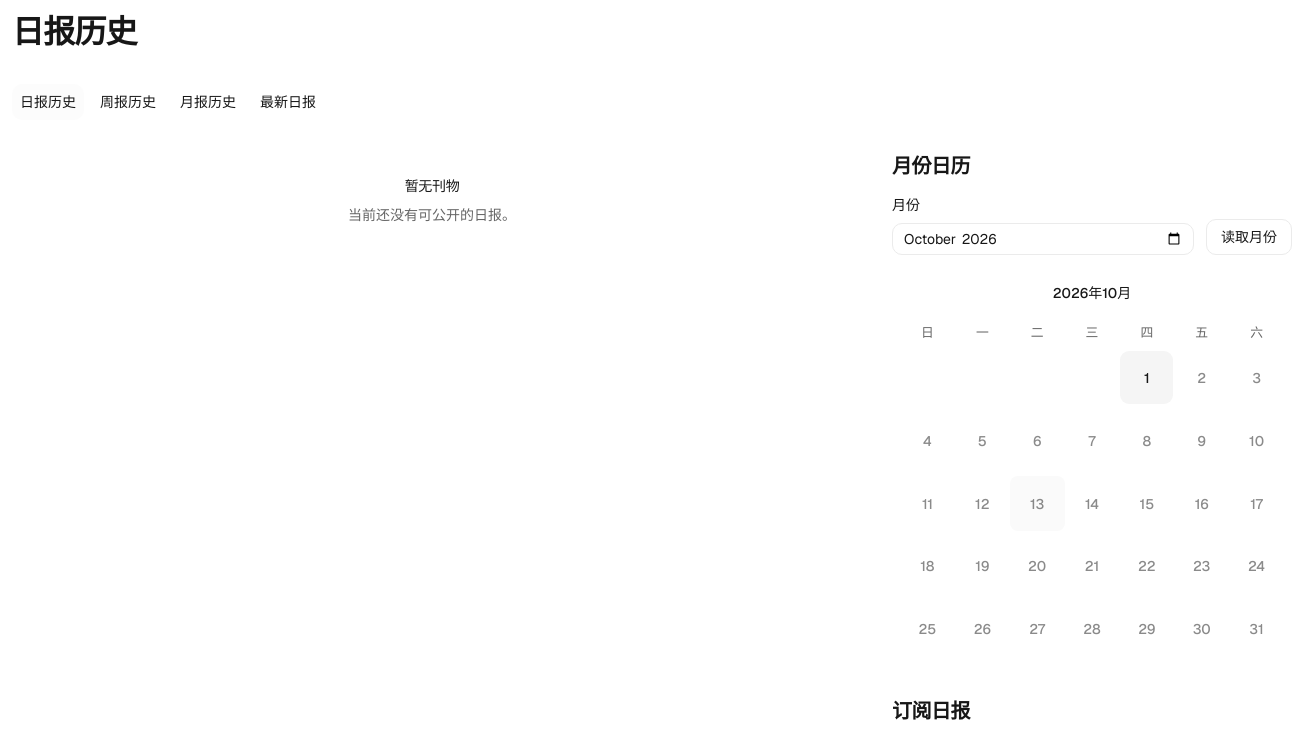
Test case: removes the old calendar when a changed month cannot be read
Replace the text in the field named "日报月份" with "2026-09" at (1043, 239), box [892,223,1194,255]
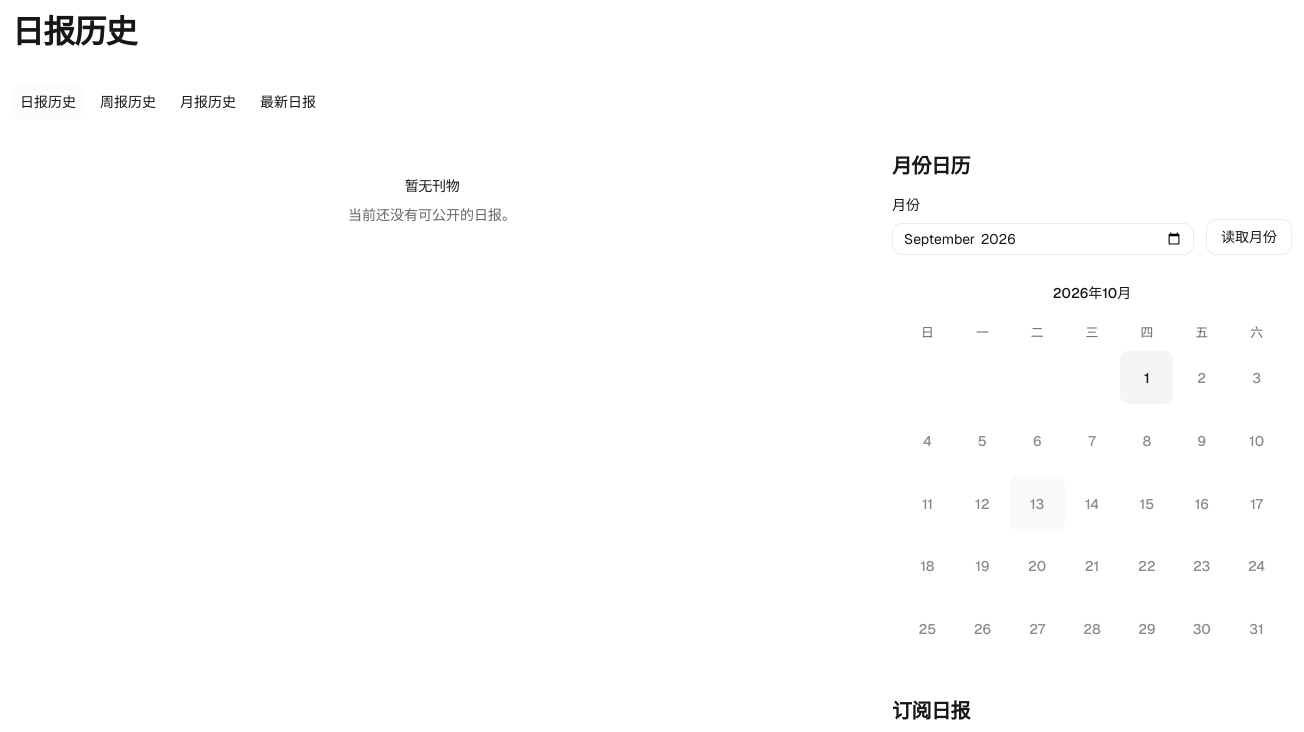
Click the button "读取月份" at (1249, 237), box [1206,219,1292,255]
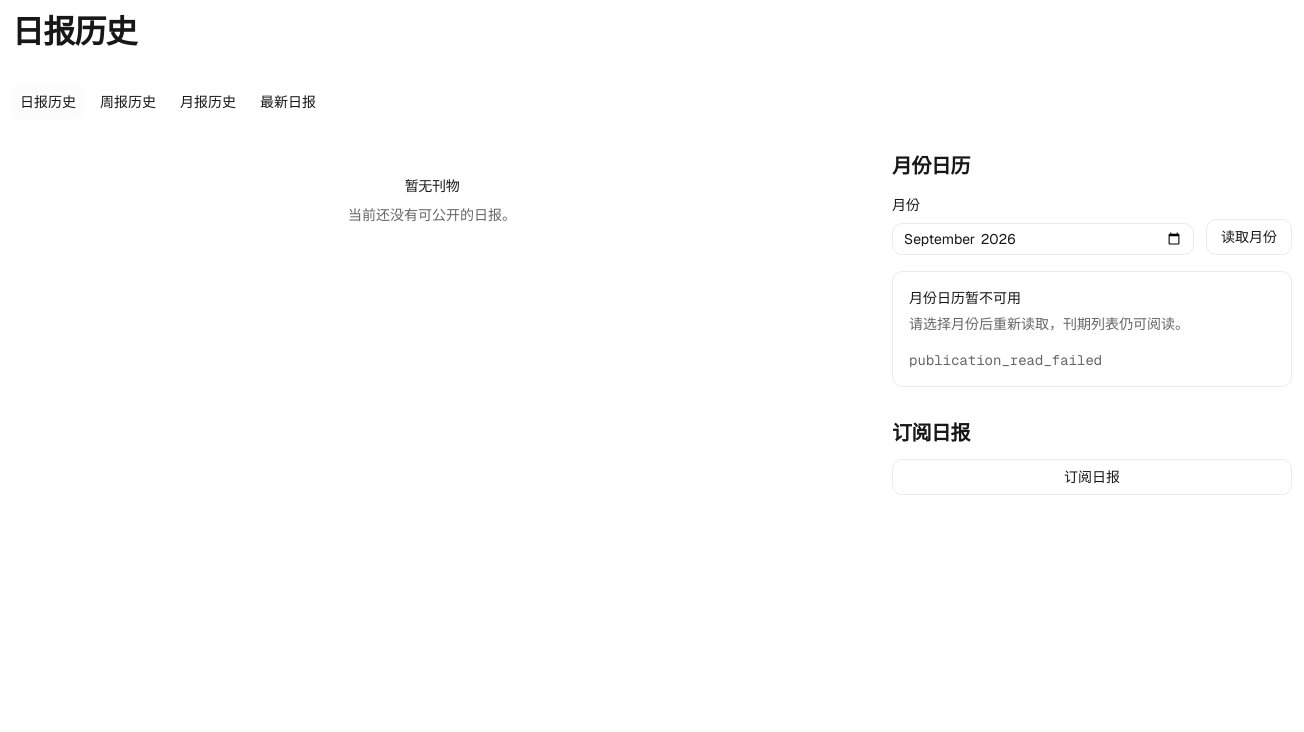
Check: the message shows "月份日历暂不可用", box [909,289,1021,307]
Check: the message shows "publication_read_failed", box [909,351,1102,369]
